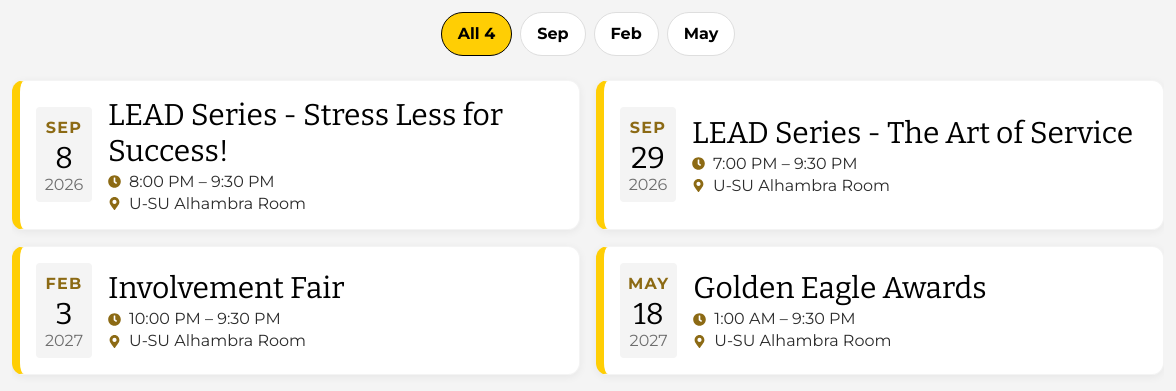
Scenario: ImagelessEventsGrid › with a month filter › puts everything back when All is pressed again
Click the button with aria-label "September 2026" at coordinates (553, 34), box [520, 12, 586, 56]
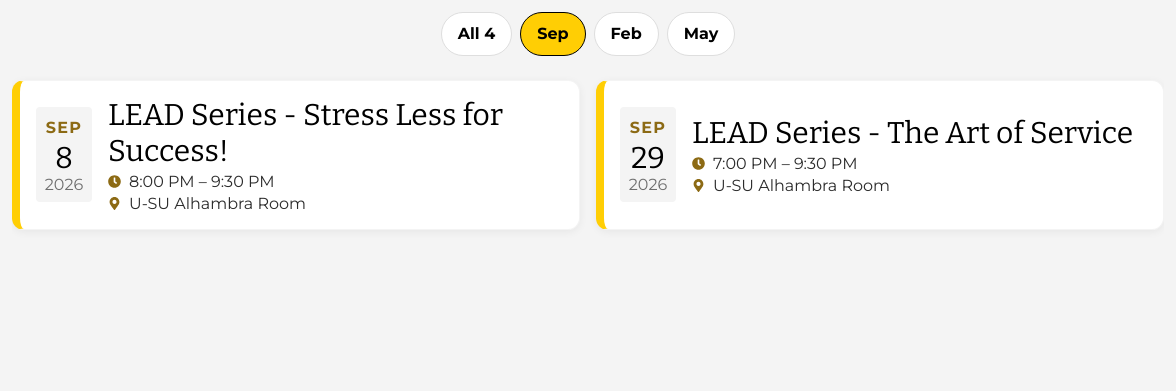
Click the button "All 4" at coordinates (476, 34), box [441, 12, 512, 56]
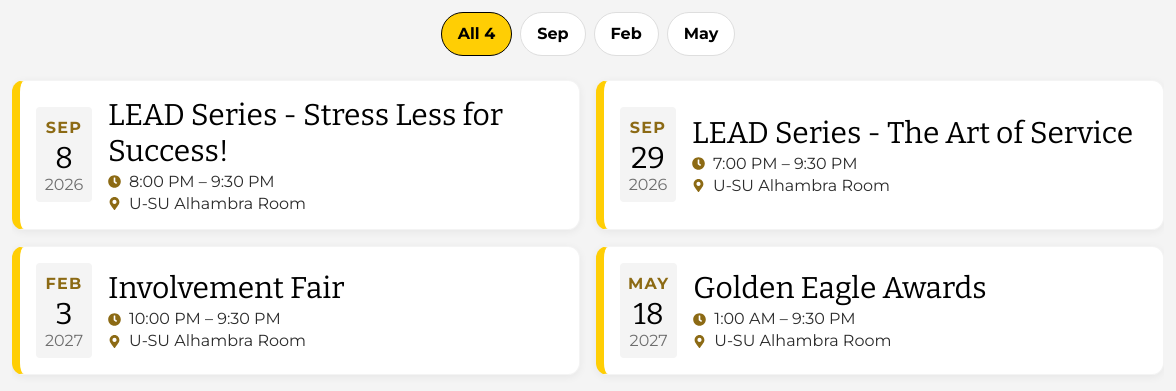
Result: the number of headings is 4 at [108, 97, 563, 169]; [692, 115, 1133, 151]; [108, 270, 344, 306]; [693, 270, 987, 306]
